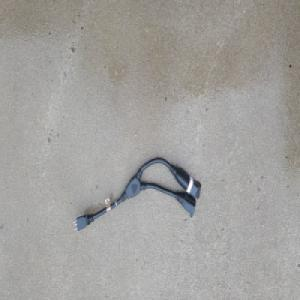Wire: (71, 156, 201, 233)
